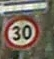limite 30: (2, 14, 40, 49)
